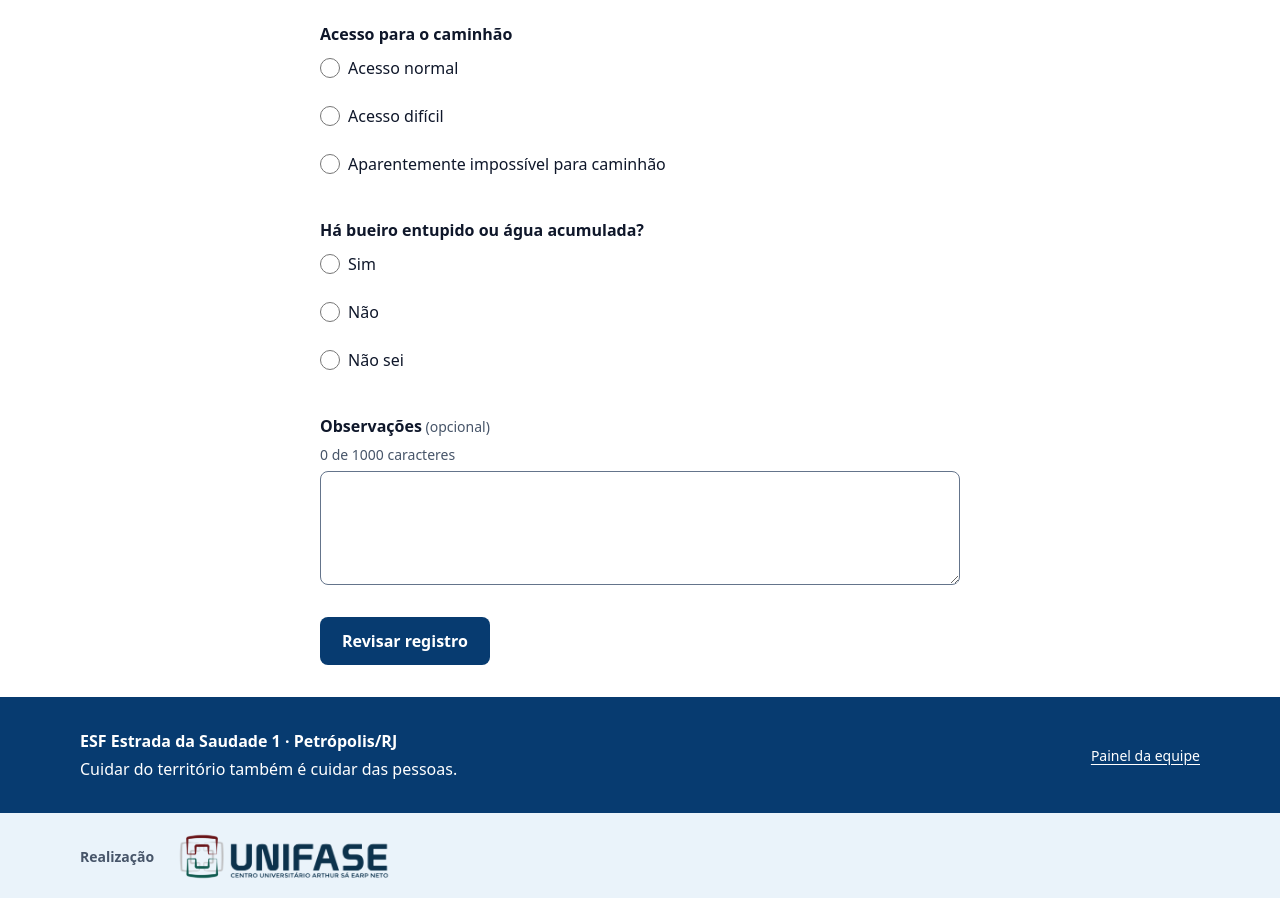
Test: Registrar — validação no cliente › mostra o resumo de erros com foco ao revisar o formulário vazio
The image size is (1280, 898).
(page scrolled)
Click the button "Revisar registro": (405, 641) [320,617,490,665]
(page scrolled)
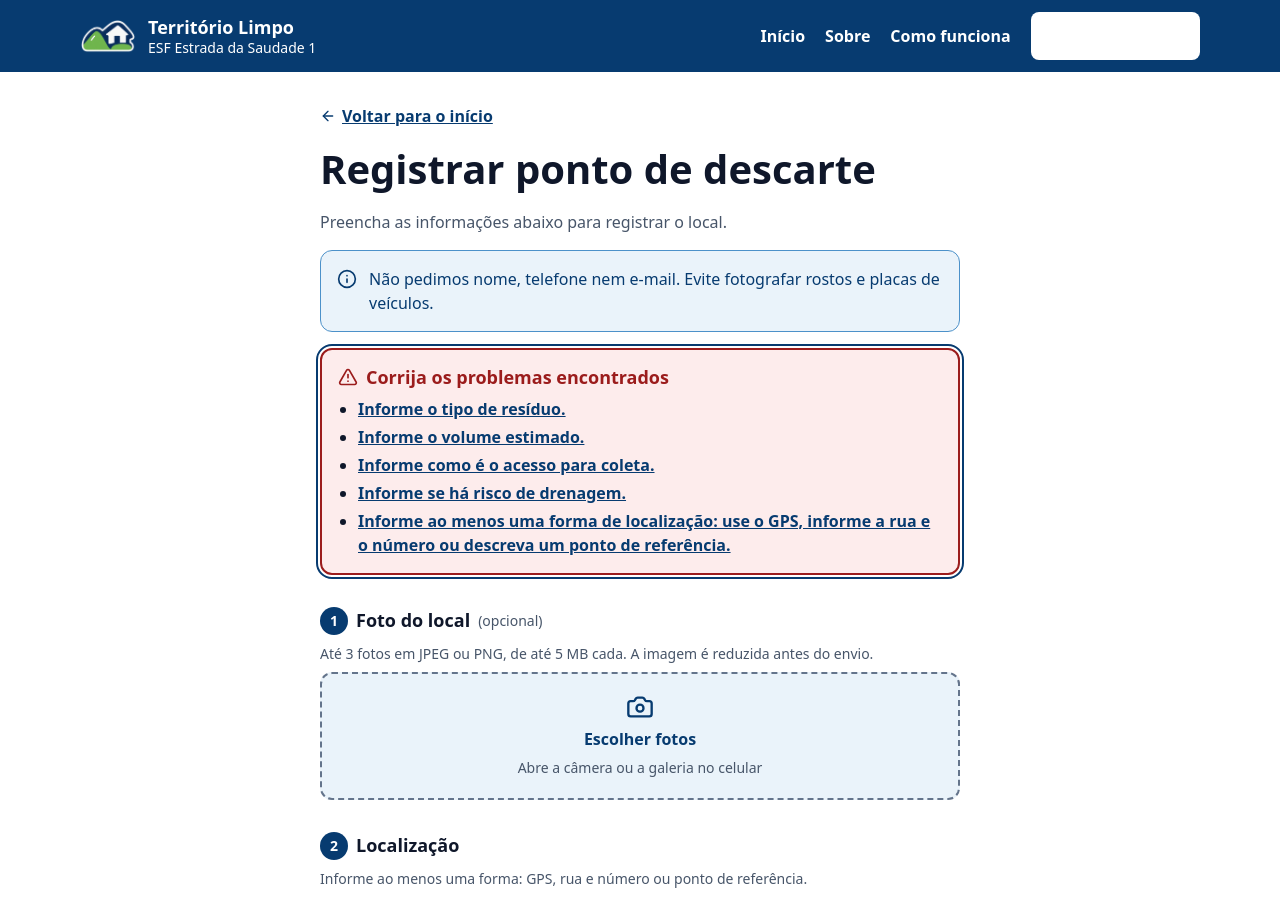
Now the link "Informe o tipo de resíduo." is shown, box [358,398,566,420]
Now the link "Informe o volume estimado." is shown, box [358,426,584,448]
Now the link "Informe como é o acesso para coleta." is shown, box [358,454,654,476]
